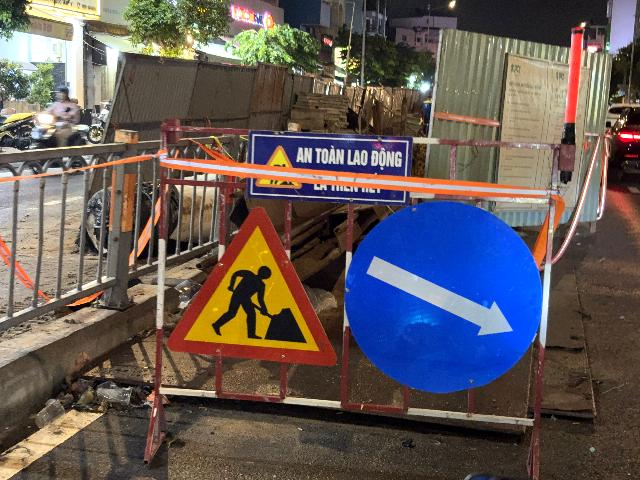cong-truong-dang-thi-cong: (167, 207, 337, 366)
huong-phai-di-vong-chuong-ngai-vat: (345, 200, 541, 395)
